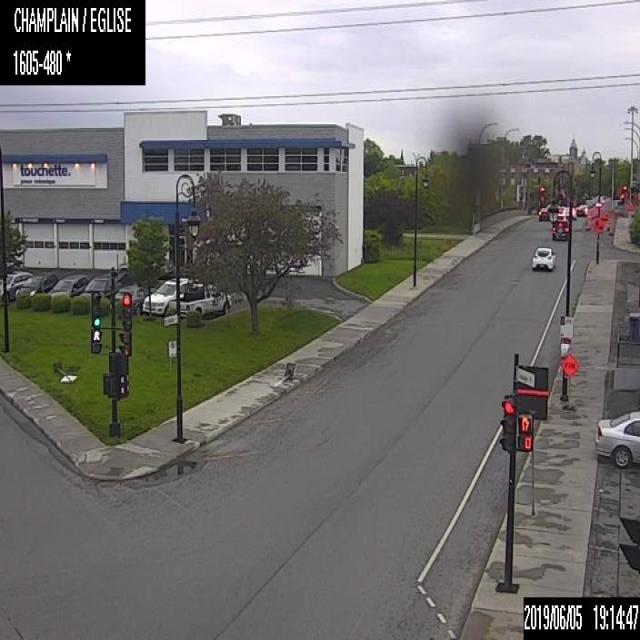construction: (560, 350, 578, 410), (52, 359, 79, 384), (272, 361, 295, 389), (592, 216, 604, 233), (608, 220, 612, 234), (584, 212, 588, 226), (586, 214, 590, 228), (606, 217, 610, 230)
vehicle: (594, 411, 639, 468), (169, 282, 231, 317), (142, 276, 192, 314), (79, 270, 129, 296), (15, 271, 59, 300), (114, 284, 155, 315), (118, 255, 174, 277), (47, 273, 91, 298), (0, 268, 33, 300), (531, 246, 556, 269), (551, 218, 569, 240), (563, 205, 576, 219), (538, 206, 549, 220), (574, 206, 584, 216), (579, 203, 588, 214), (557, 205, 564, 217)
